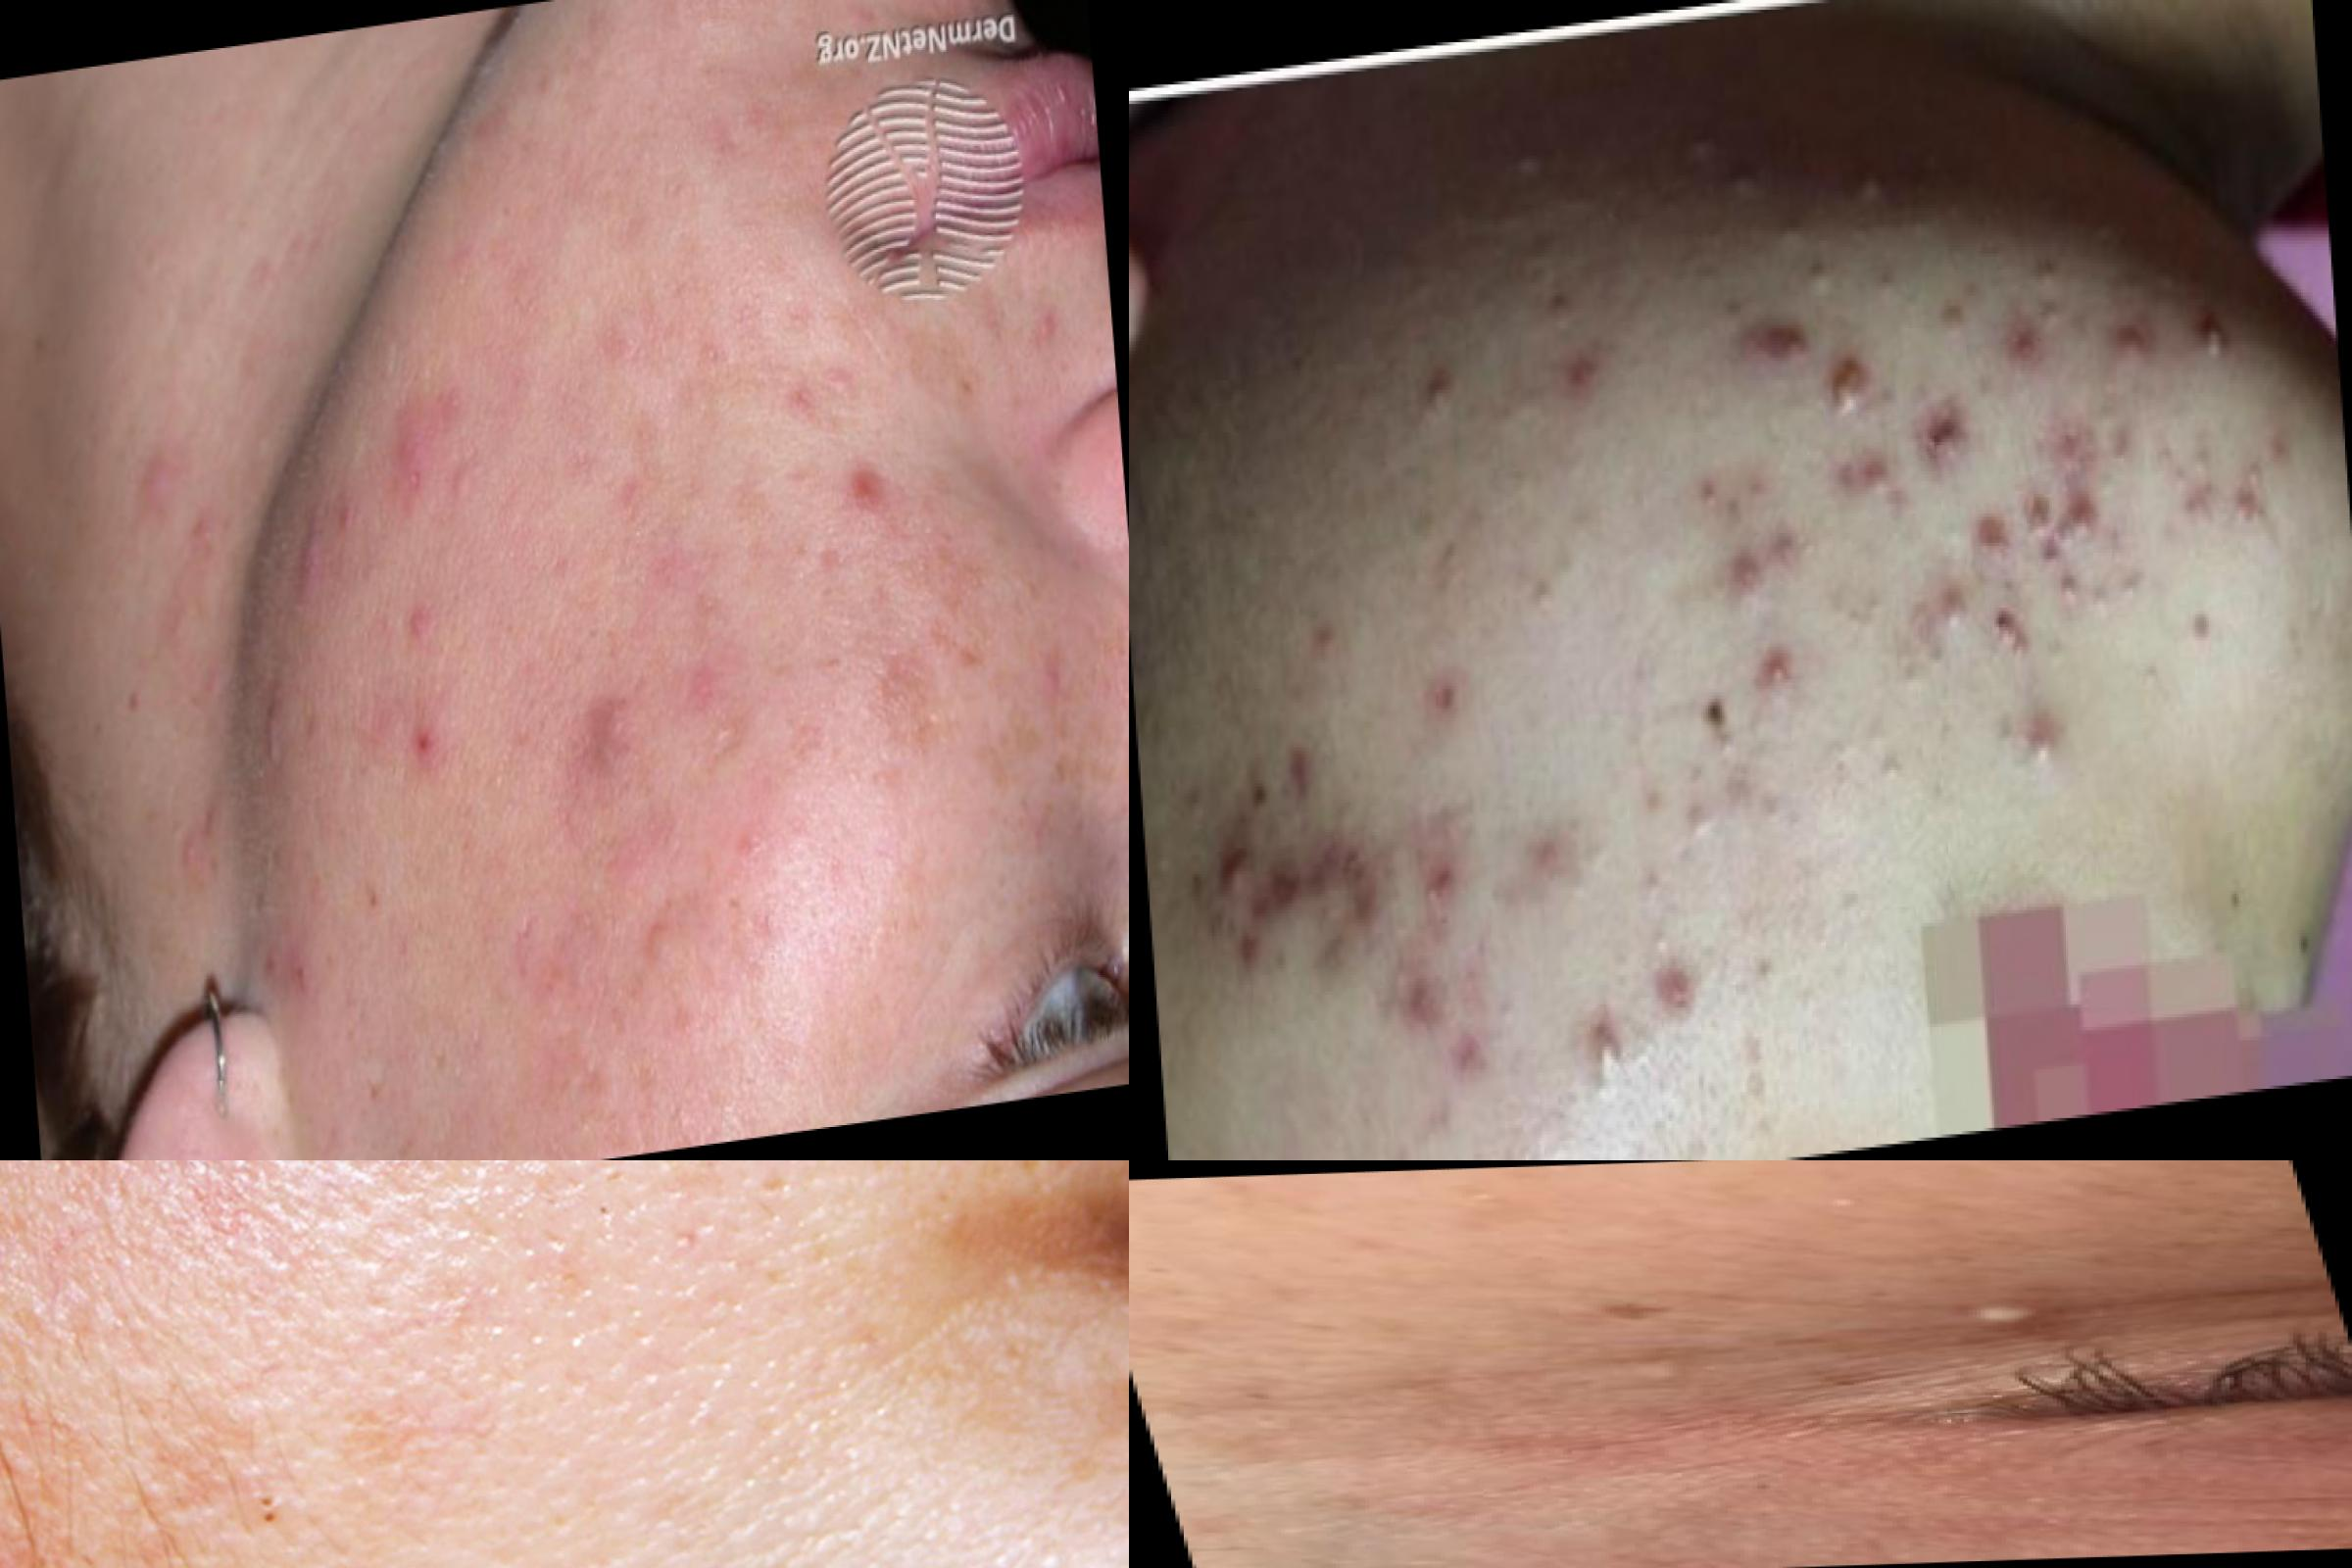acne_scars: (1227, 819, 1386, 933)
blackhead: (186, 1409, 352, 1568)
cystic: (563, 598, 642, 826)
milium: (1440, 1340, 1803, 1398), (1876, 1283, 2130, 1353), (1731, 1172, 1921, 1221), (1442, 1172, 1522, 1216)
papular: (250, 446, 376, 647), (355, 353, 436, 509), (817, 423, 920, 534), (1736, 299, 1834, 399), (1395, 840, 1475, 950), (1911, 385, 1981, 495), (1687, 530, 1787, 605), (1389, 959, 1463, 1059), (1734, 635, 1822, 712), (2046, 457, 2114, 537), (1558, 339, 1626, 416), (2100, 301, 2163, 383), (1930, 280, 1995, 355), (2000, 301, 2058, 383), (1845, 446, 1907, 522), (2175, 472, 2236, 549), (1974, 472, 2009, 567)
purulent: (1566, 978, 1645, 1111), (2007, 693, 2093, 791), (1811, 345, 1885, 429), (2187, 299, 2249, 374)
whitehead: (1888, 548, 1979, 693), (667, 693, 758, 780), (1405, 325, 1475, 439), (1493, 546, 1587, 628), (1729, 908, 1799, 1019), (1514, 240, 1592, 338), (1857, 695, 1918, 812), (2054, 558, 2152, 630), (462, 730, 537, 814), (1561, 826, 1619, 919), (2224, 455, 2282, 546), (1673, 788, 1734, 856), (2028, 238, 2072, 329), (1727, 150, 1774, 226), (441, 455, 504, 507), (2173, 420, 2224, 485), (1664, 114, 1717, 175), (1767, 199, 1813, 268), (1643, 899, 1676, 969), (1781, 268, 1843, 303), (1850, 156, 1890, 208)
